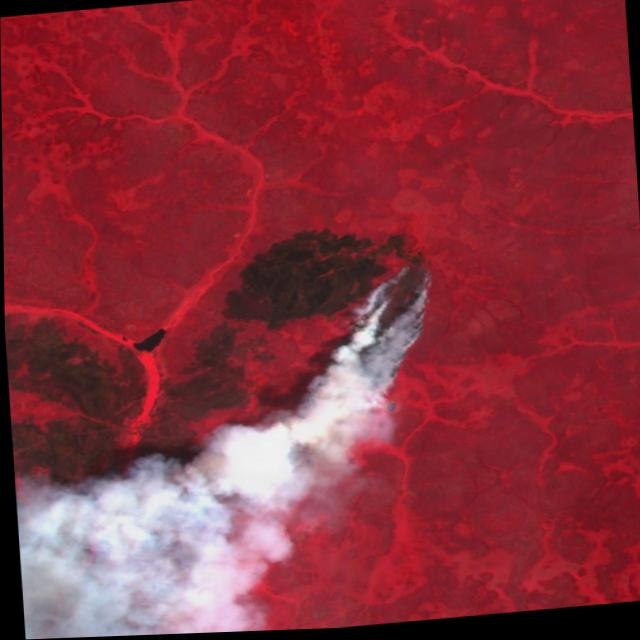fire: (294, 261, 446, 431)
